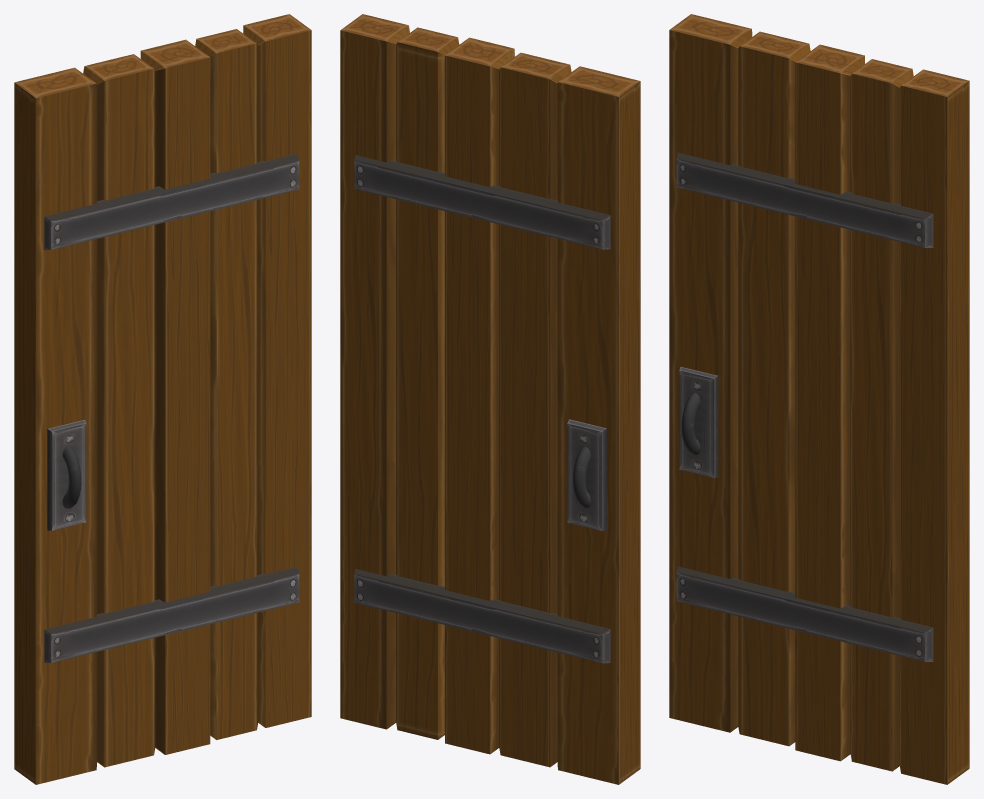
The model's file is SM_Door_C.fbx.
3 renders of one model, left to right at view 1: azimuth 30°, elevation 25°; view 2: azimuth 150°, elevation 25°; view 3: azimuth 330°, elevation 25°, orthographic.
Parts seen in each view (by area): view 1: SM_Door_C; view 2: SM_Door_C; view 3: SM_Door_C.
Part boxes in pixels (x1,y1,x2,y2): SM_Door_C: (14, 14, 311, 784); SM_Door_C: (340, 14, 640, 784); SM_Door_C: (669, 14, 969, 784).
Bounding box in the file's own units: 1.09 × 2.59 × 0.3401.
